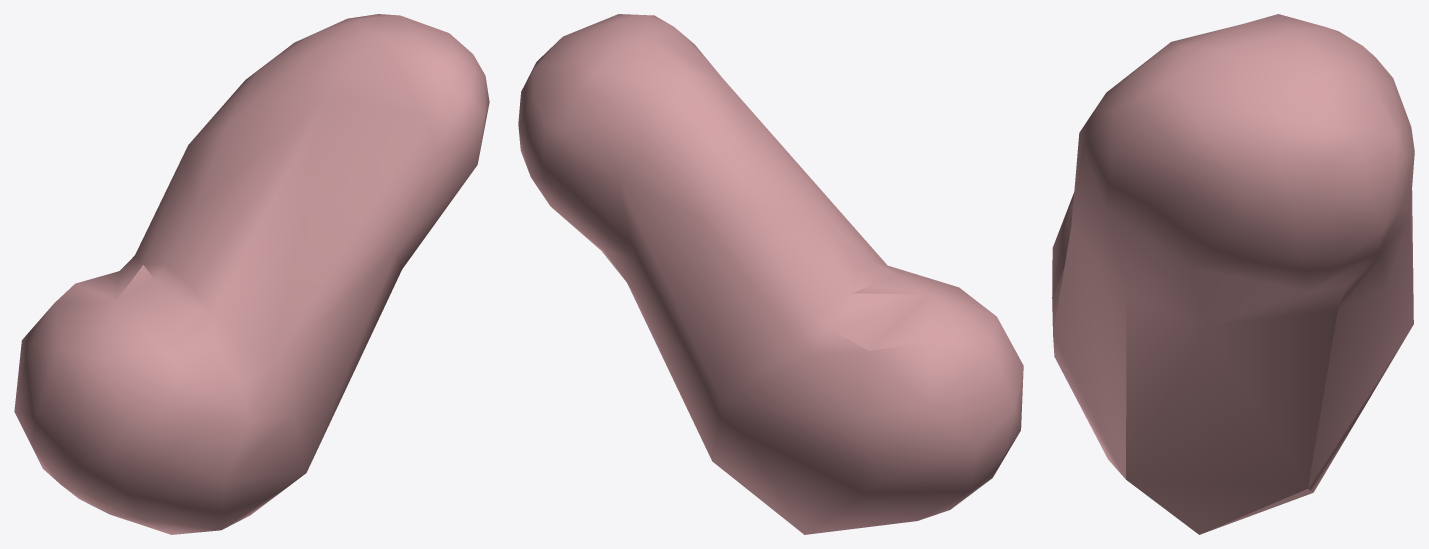
Rendered from fma14966_fj2592.glb.
The picture shows the model from 3 angles, left to right: view 1: azimuth 30°, elevation 25°; view 2: azimuth 150°, elevation 25°; view 3: azimuth 270°, elevation 25°; orthographic projection. The views are drawn at different scales.
Parts seen in each view (by area): view 1: FMA14966_FJ2592; view 2: FMA14966_FJ2592; view 3: FMA14966_FJ2592.
Boxes of the visible parts, box(x1,y1,x2,y2) form: FMA14966_FJ2592: box(14, 14, 489, 534); FMA14966_FJ2592: box(518, 14, 1023, 534); FMA14966_FJ2592: box(1052, 14, 1414, 534).
Size of the model in its own units: 0.0423 by 0.0391 by 0.0214.
